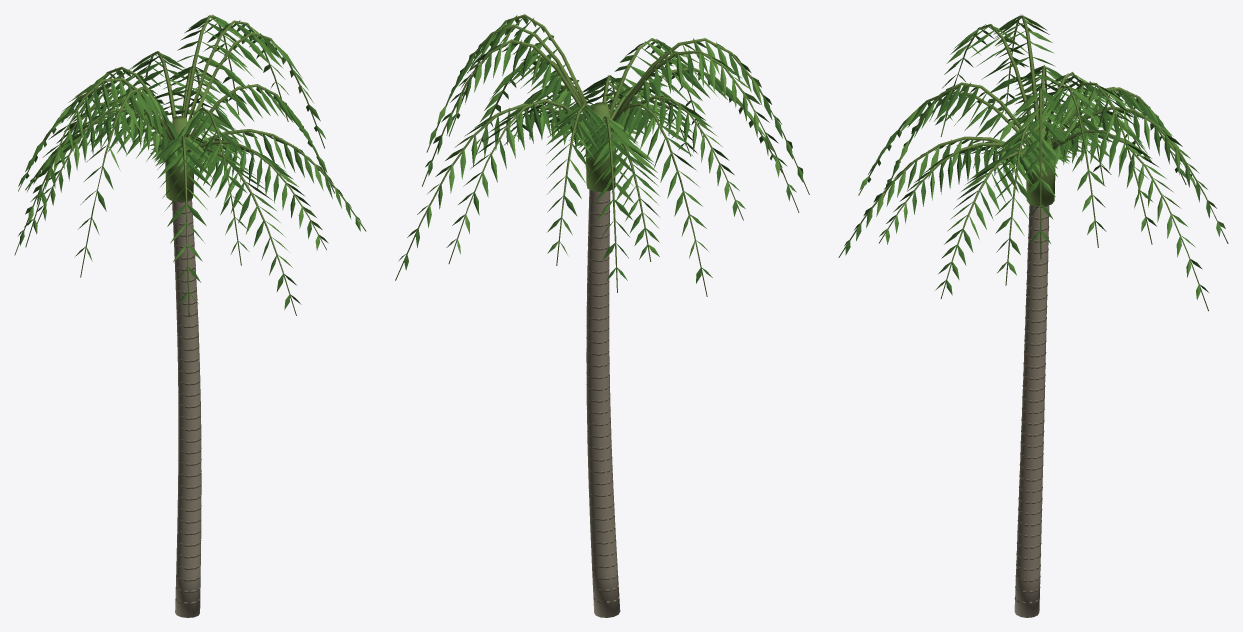
Rendered from palm.glb.
The picture shows the model from 3 angles, left to right: view 1: azimuth 30°, elevation 25°; view 2: azimuth 150°, elevation 25°; view 3: azimuth 270°, elevation 25°; orthographic projection. The views are drawn at different scales.
Visible parts, largest first — view 1: Palm_ArchingModeledFronds, Palm_TrunkAndFrondStems; view 2: Palm_ArchingModeledFronds, Palm_TrunkAndFrondStems; view 3: Palm_ArchingModeledFronds, Palm_TrunkAndFrondStems.
Boxes of the visible parts, x1=… form: Palm_ArchingModeledFronds: x1=18, y1=14, x2=361, y2=309; Palm_TrunkAndFrondStems: x1=14, y1=15, x2=366, y2=617; Palm_ArchingModeledFronds: x1=398, y1=15, x2=803, y2=283; Palm_TrunkAndFrondStems: x1=395, y1=14, x2=809, y2=617; Palm_ArchingModeledFronds: x1=844, y1=14, x2=1225, y2=299; Palm_TrunkAndFrondStems: x1=838, y1=15, x2=1228, y2=617.
Size of the model in its own units: 7.33 by 12.38 by 7.83.
